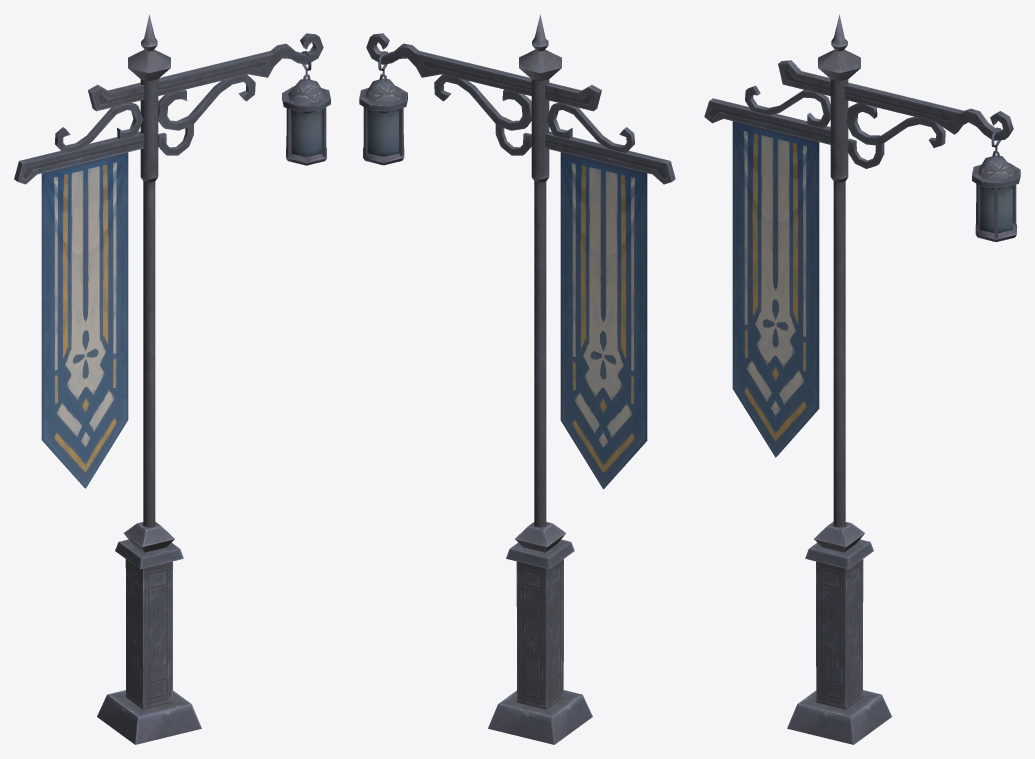
Rendered from Homeworld_Exterior_Md_Lamp_Lamp_01_Lod0.fbx.
3 views of the same model, side by side, from view 1: azimuth 30°, elevation 25°; view 2: azimuth 150°, elevation 25°; view 3: azimuth 330°, elevation 25° (orthographic).
Visible parts, largest first — view 1: Area_MdProps_Lamp13_Lod0; view 2: Area_MdProps_Lamp13_Lod0; view 3: Area_MdProps_Lamp13_Lod0.
Boxes of the visible parts, <box> form: Area_MdProps_Lamp13_Lod0: <box>14,14,330,744</box>; Area_MdProps_Lamp13_Lod0: <box>359,14,675,744</box>; Area_MdProps_Lamp13_Lod0: <box>704,14,1020,744</box>.
Size of the model in its own units: 1.99 by 4.3 by 0.4231.
